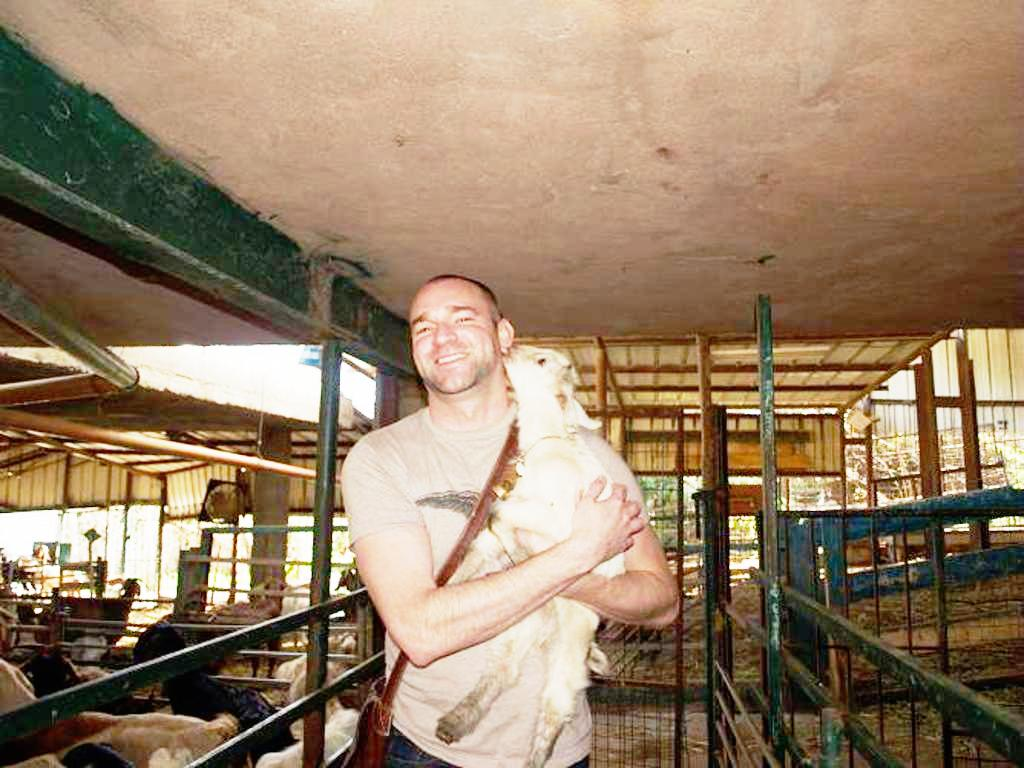Sheep: (440, 344, 630, 766)
